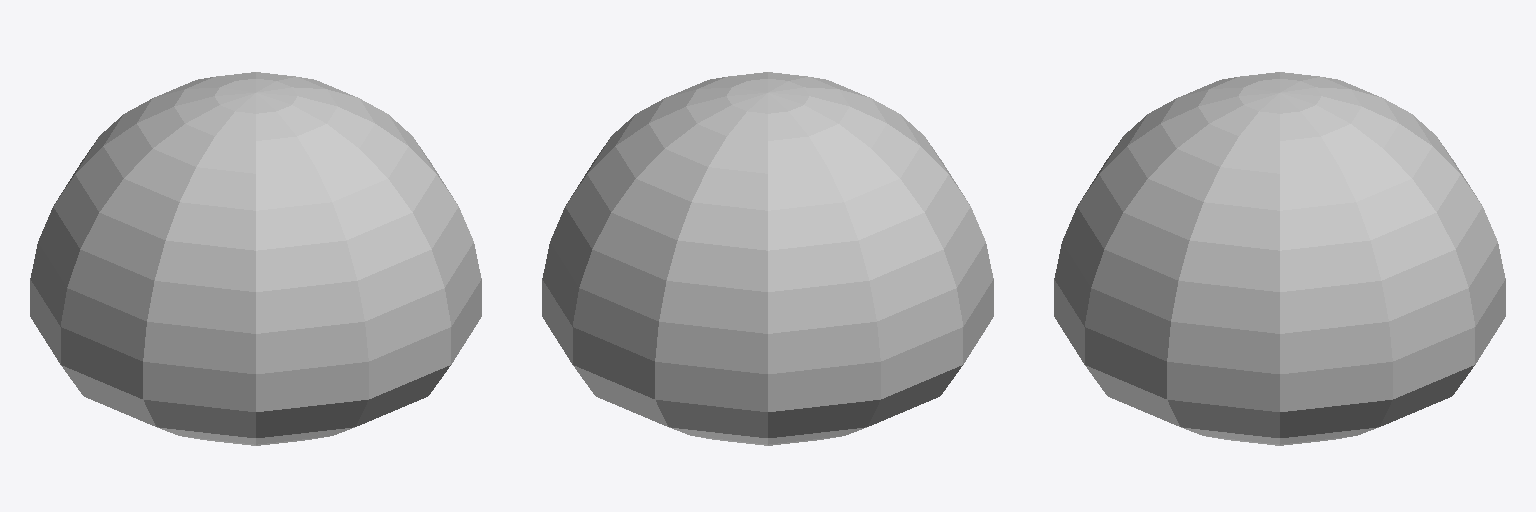
The model's file is IceTop.obj.
3 views of the same model, side by side, from view 1: azimuth 30°, elevation 25°; view 2: azimuth 150°, elevation 25°; view 3: azimuth 270°, elevation 25° (orthographic).
Bounding box in the file's own units: 51.55 × 41.16 × 51.55.